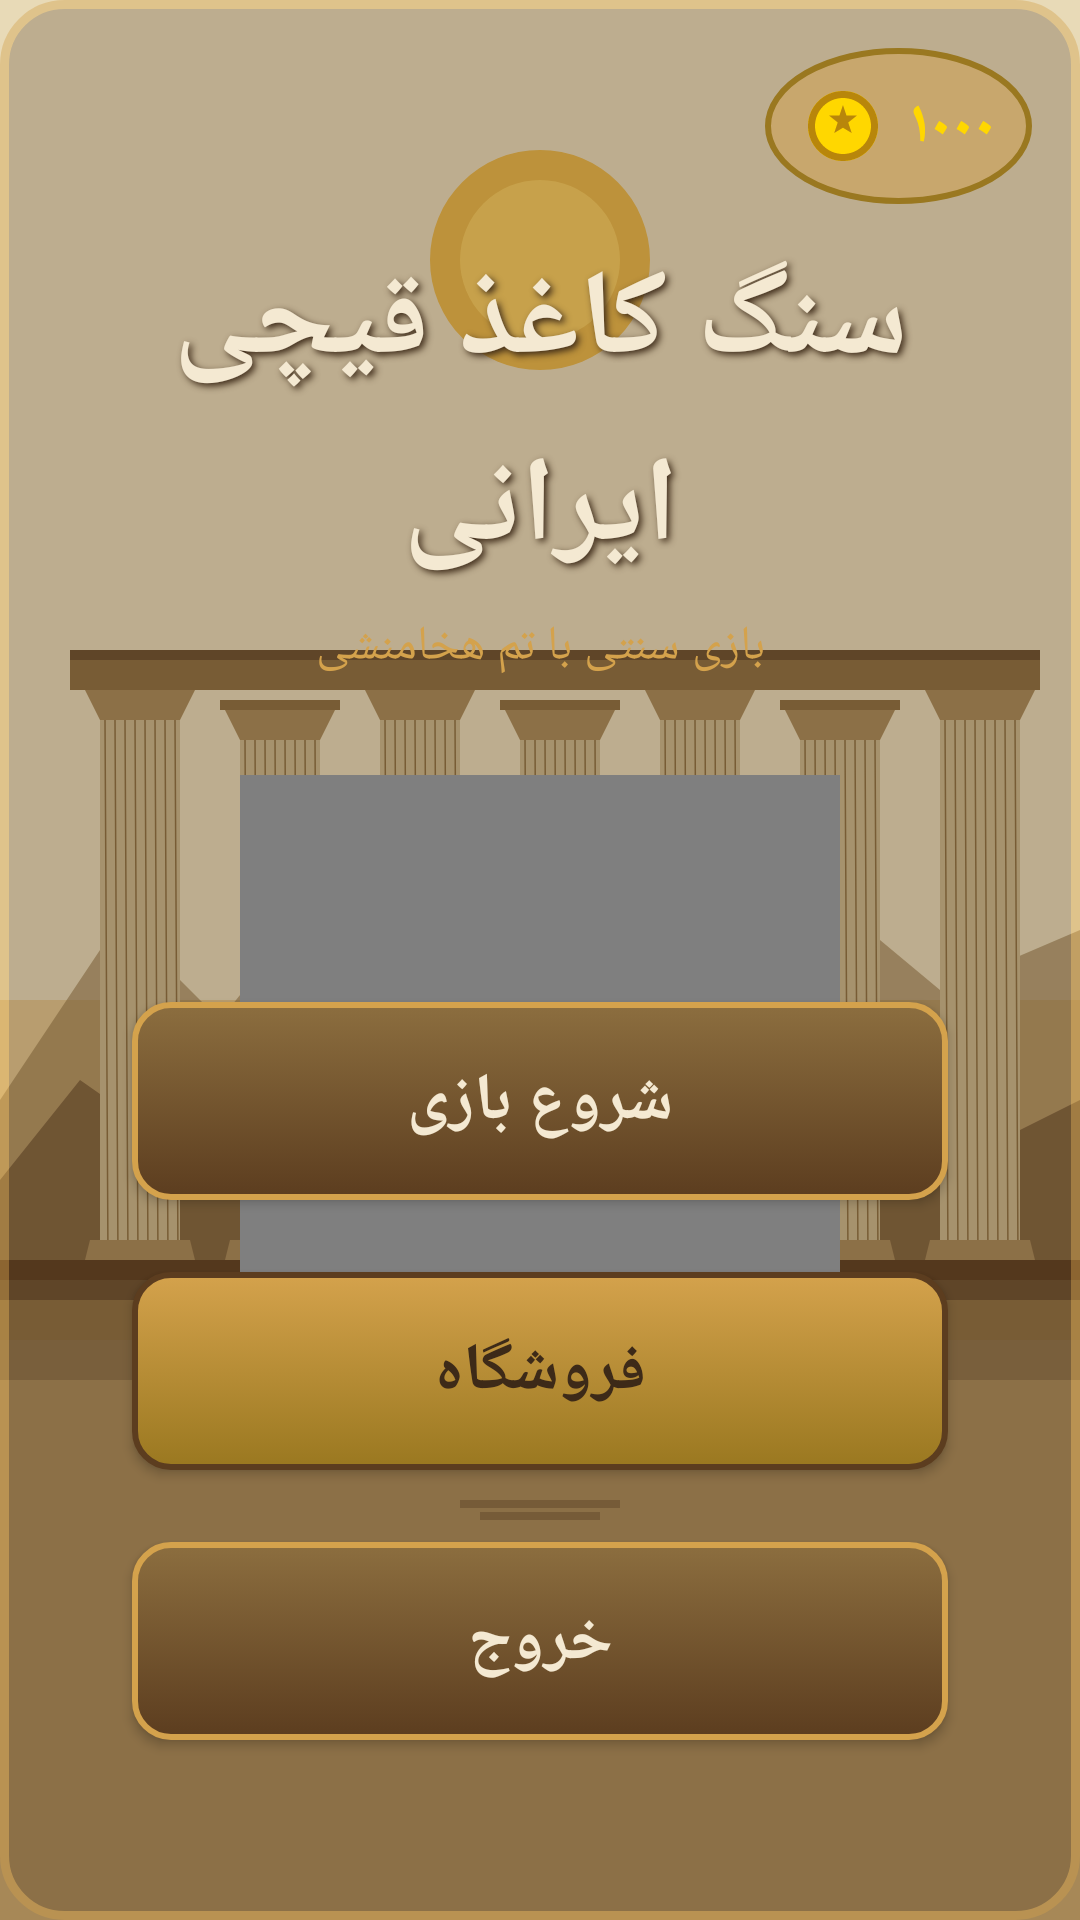

Icons on this 1080*1920 Android screen, each with the point to tap as (x,y):
سکه: (843,126)
